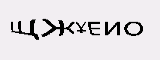Е: (86, 18, 100, 34)
Ж: (39, 16, 75, 38)
И: (103, 19, 121, 36)
О: (121, 18, 145, 40)
Щ: (6, 18, 39, 41)
Ұ: (75, 18, 88, 36)
